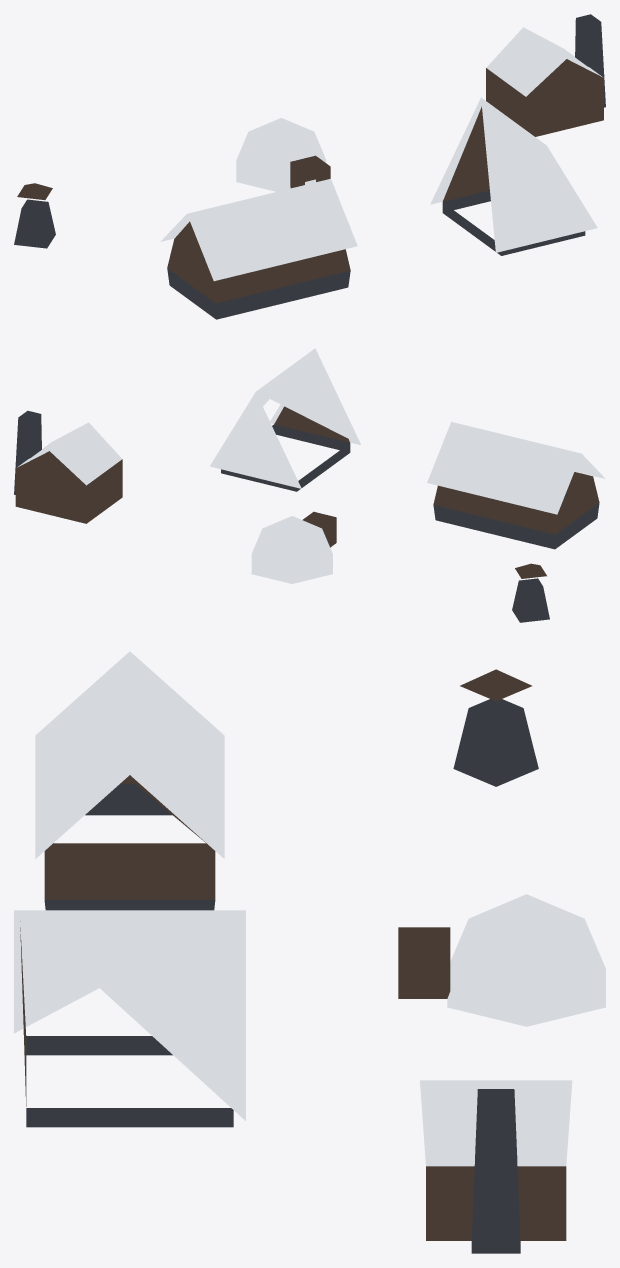
File: glacier_village.obj
3 renders of one model, top to bottom at view 1: azimuth 30°, elevation 25°; view 2: azimuth 150°, elevation 25°; view 3: azimuth 270°, elevation 25°, orthographic. The views are drawn at different scales.
Visible parts, largest first — view 1: glacier_village; view 2: glacier_village; view 3: glacier_village.
Part boxes in pixels (left/top/right/bottom): glacier_village: left=14, top=14, right=605, bottom=319; glacier_village: left=14, top=348, right=605, bottom=622; glacier_village: left=14, top=651, right=605, bottom=1253.
Bounding box in the file's own units: 39 × 6.55 × 19.4.
